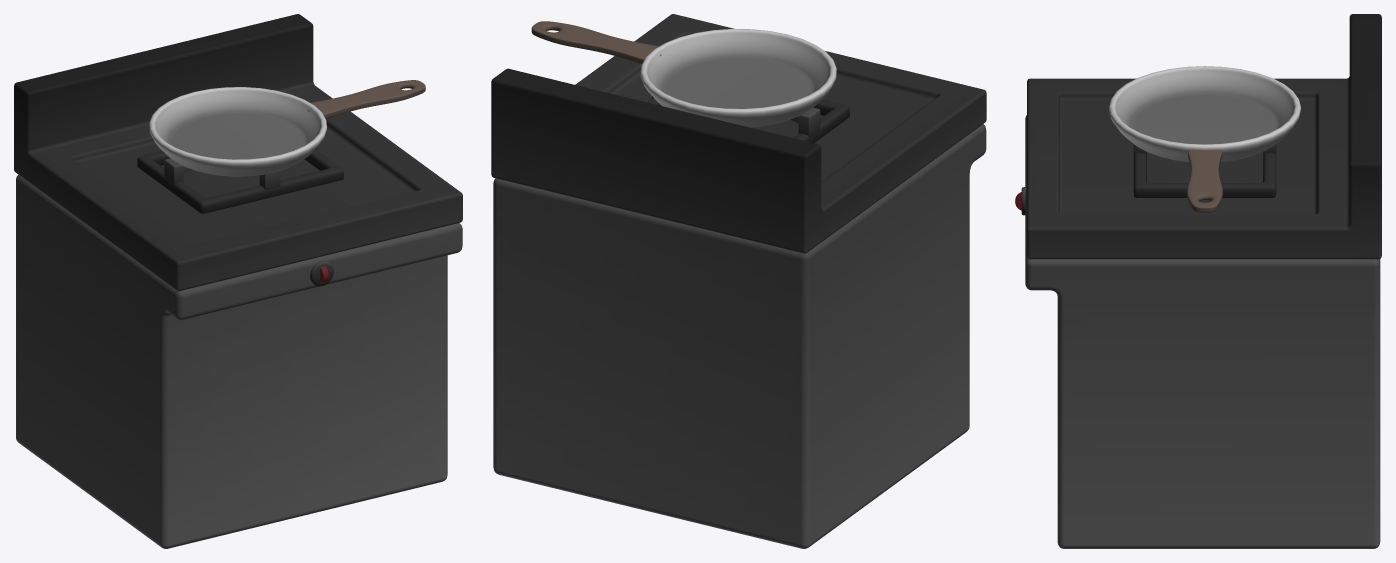
Rendered from HH_Frier.fbx.
3 views of the same model, side by side, from view 1: azimuth 30°, elevation 25°; view 2: azimuth 150°, elevation 25°; view 3: azimuth 270°, elevation 25° (orthographic). The views are drawn at different scales.
Visible parts, largest first — view 1: FirerStation.002, FryingPan, Burner_Frier; view 2: FirerStation.002, FryingPan, Burner_Frier; view 3: FirerStation.002, FryingPan, Burner_Frier.
Part boxes in pixels (bbox=[...]): FirerStation.002: bbox=[14, 14, 462, 548]; FryingPan: bbox=[149, 80, 425, 176]; Burner_Frier: bbox=[137, 148, 343, 213]; FirerStation.002: bbox=[491, 14, 986, 548]; FryingPan: bbox=[531, 21, 836, 127]; Burner_Frier: bbox=[647, 96, 849, 142]; FirerStation.002: bbox=[1025, 14, 1381, 548]; FryingPan: bbox=[1109, 66, 1300, 212]; Burner_Frier: bbox=[1133, 144, 1276, 197].
Size of the model in its own units: 115 by 120 by 103.
1 material, 1 textured.
